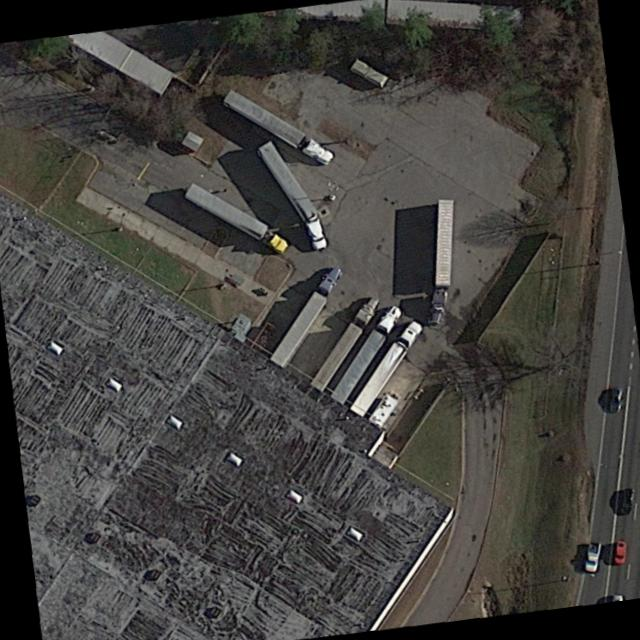large-vehicle: (256, 139, 337, 252), (222, 87, 335, 163), (270, 264, 345, 367), (331, 302, 405, 404), (186, 180, 290, 252), (350, 318, 424, 415), (311, 295, 381, 390), (433, 198, 455, 322)
small-vehicle: (584, 539, 603, 573), (607, 385, 627, 416), (619, 486, 635, 514), (614, 537, 630, 565)
